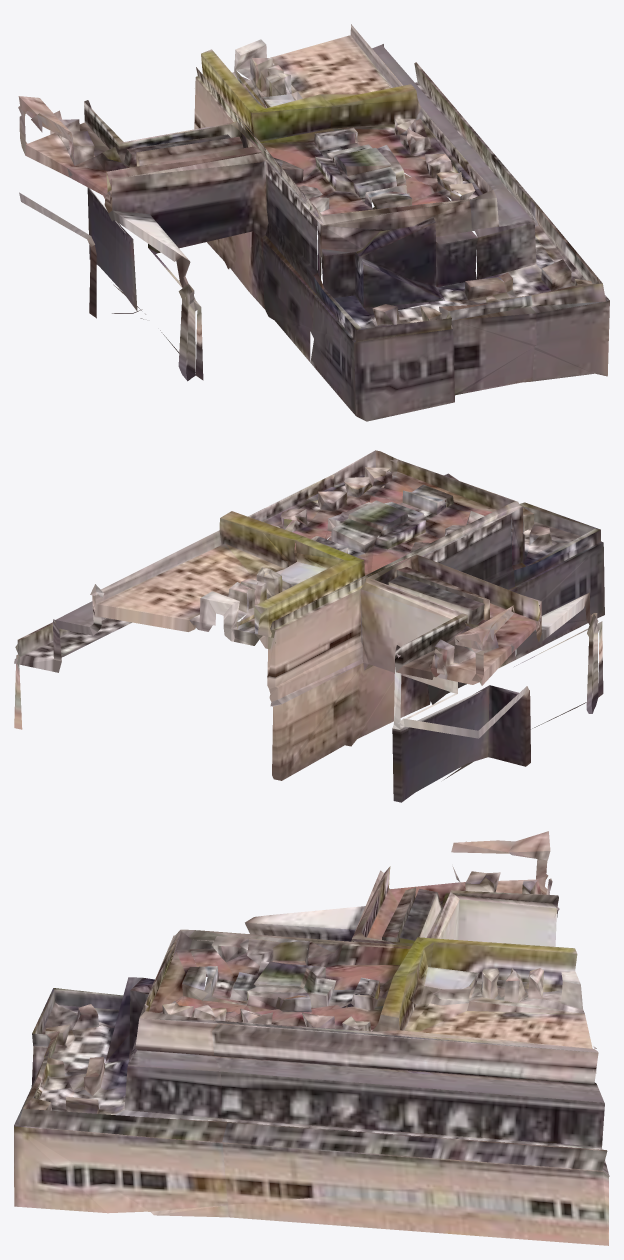
The picture shows the model from 3 angles, top to bottom: view 1: azimuth 30°, elevation 25°; view 2: azimuth 150°, elevation 25°; view 3: azimuth 270°, elevation 25°; orthographic projection. The views are drawn at different scales.
Parts seen in each view (by area): view 1: Mesh_0; view 2: Mesh_0; view 3: Mesh_0.
Part boxes in pixels (x1,y1,x2,y2): Mesh_0: (18, 24, 609, 421); Mesh_0: (14, 450, 604, 802); Mesh_0: (14, 831, 609, 1245).
Bounding box in the file's own units: 27.77 × 11.58 × 30.71.
1 material, 1 textured.
